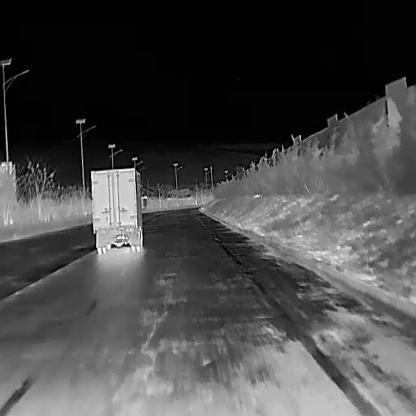truck: (90, 167, 146, 253)
